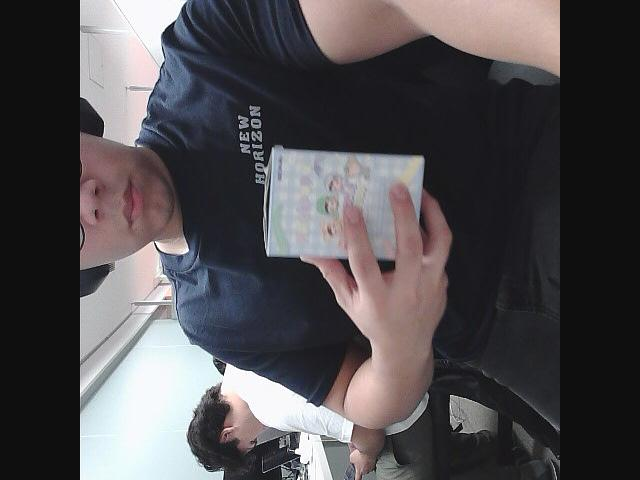Blind_box: (262, 146, 442, 260)
